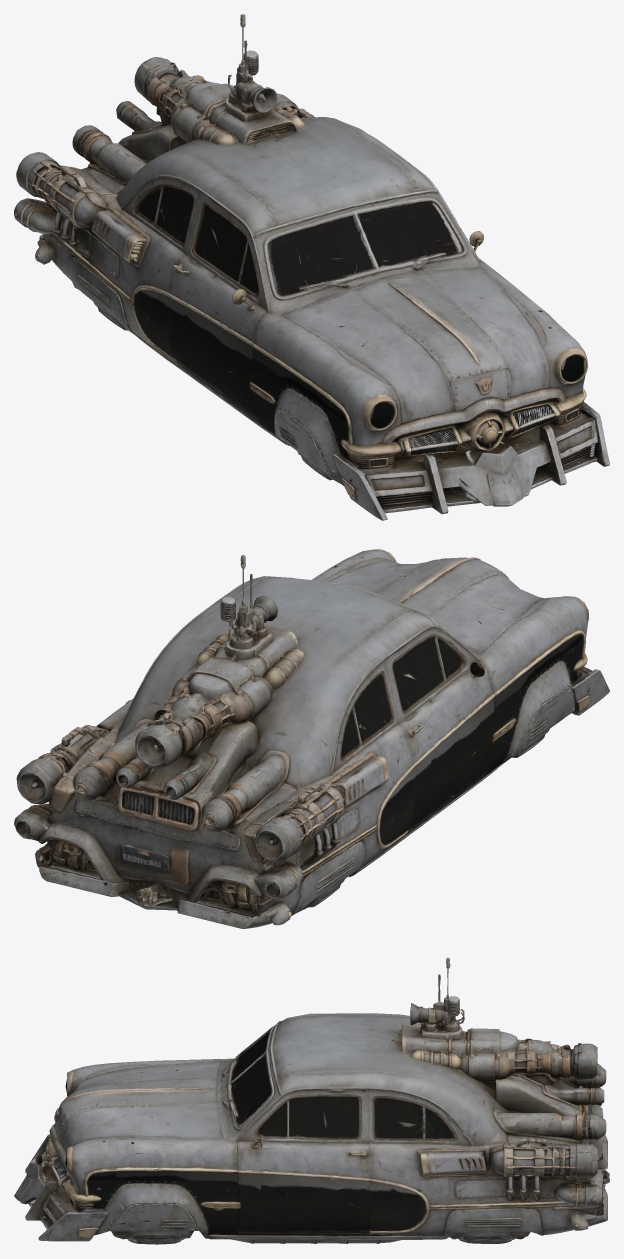
File: rust_runner_browser.glb
3 views of the same model, one above another, from view 1: azimuth 30°, elevation 25°; view 2: azimuth 150°, elevation 25°; view 3: azimuth 270°, elevation 25° (orthographic). The views are drawn at different scales.
Visible parts, largest first — view 1: rust_runner; view 2: rust_runner; view 3: rust_runner.
Part boxes in pixels (x1,y1,x2,y2): rust_runner: [14, 14, 609, 520]; rust_runner: [14, 549, 609, 928]; rust_runner: [14, 957, 609, 1244].
Size of the model in its own units: 2.43 by 2.68 by 5.61.
1 material, 1 textured.
